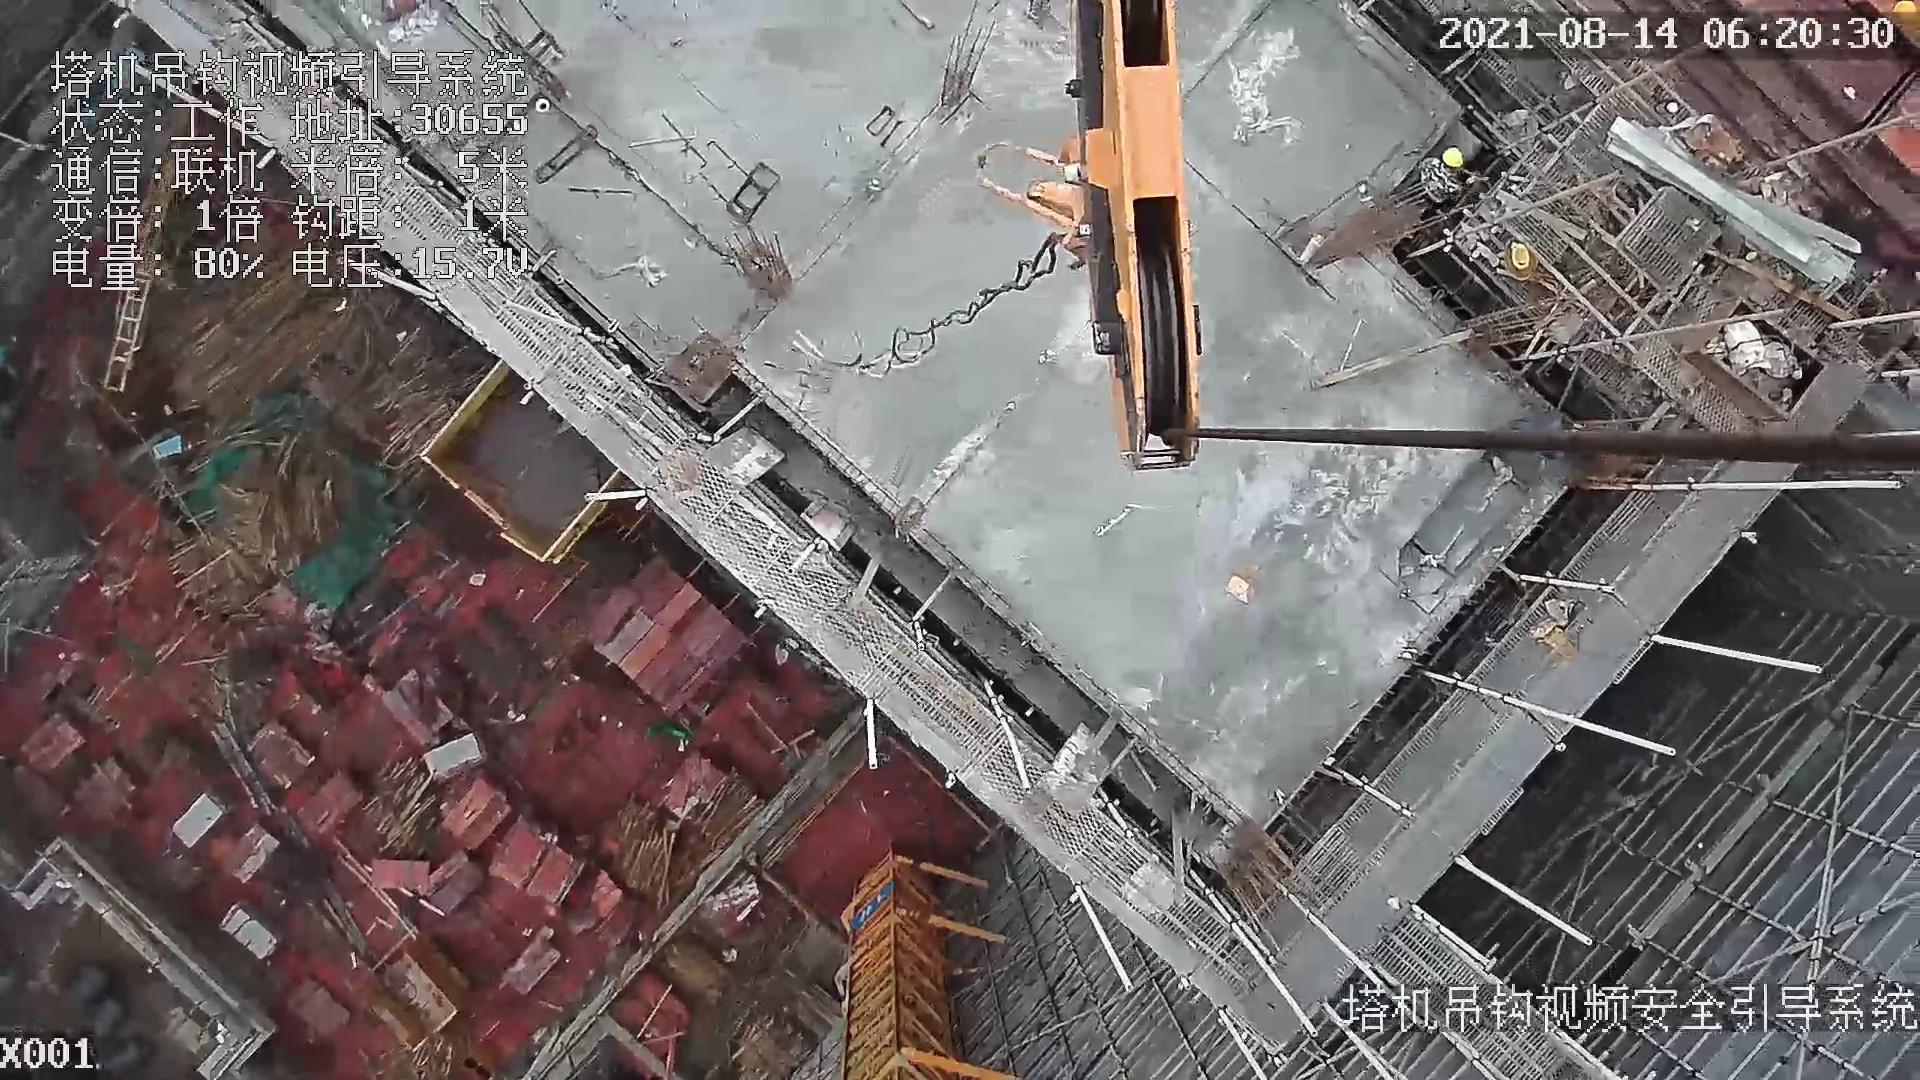helmet: (1441, 139, 1468, 172)
hook: (969, 1, 1210, 476)
person: (1427, 147, 1464, 203)
